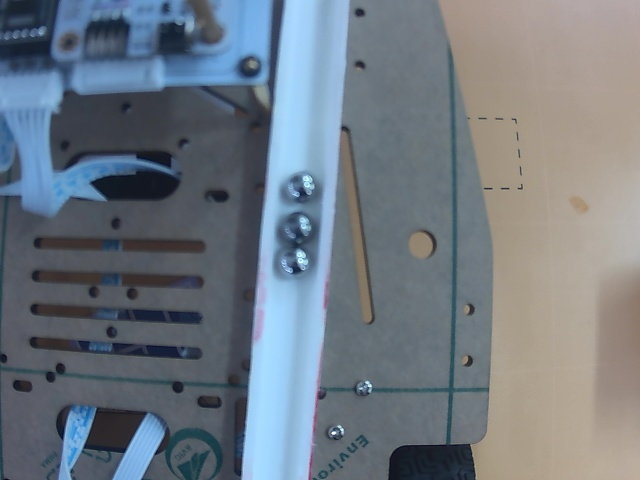steelball: (279, 212, 313, 245), (284, 172, 317, 201), (276, 248, 310, 276)
